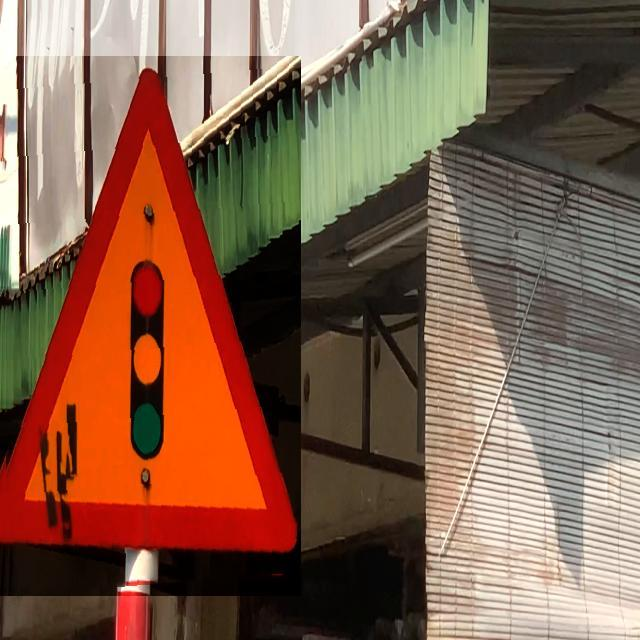W-209: (0, 56, 301, 596)
